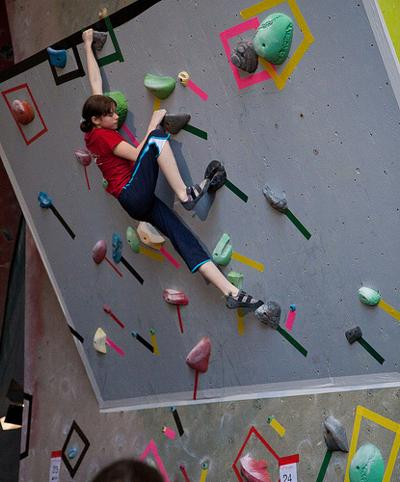person: (78, 29, 264, 312)
